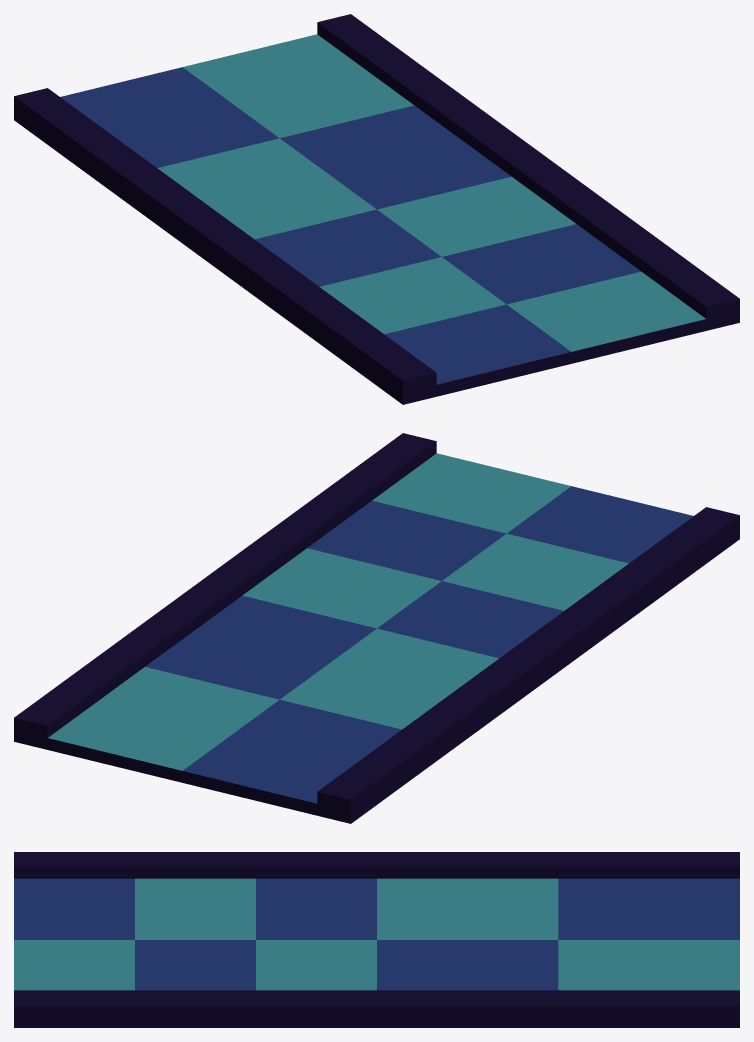
The model's file is Road_1.fbx.
3 renders of one model, top to bottom at view 1: azimuth 30°, elevation 25°; view 2: azimuth 150°, elevation 25°; view 3: azimuth 270°, elevation 25°, orthographic. The views are drawn at different scales.
Visible parts, largest first — view 1: Road; view 2: Road; view 3: Road.
Part boxes in pixels (left/top/right/bottom): Road: left=14, top=14, right=739, bottom=404; Road: left=14, top=433, right=739, bottom=823; Road: left=14, top=852, right=739, bottom=1027.
Bounding box in the file's own units: 1496 × 102 × 2991.
